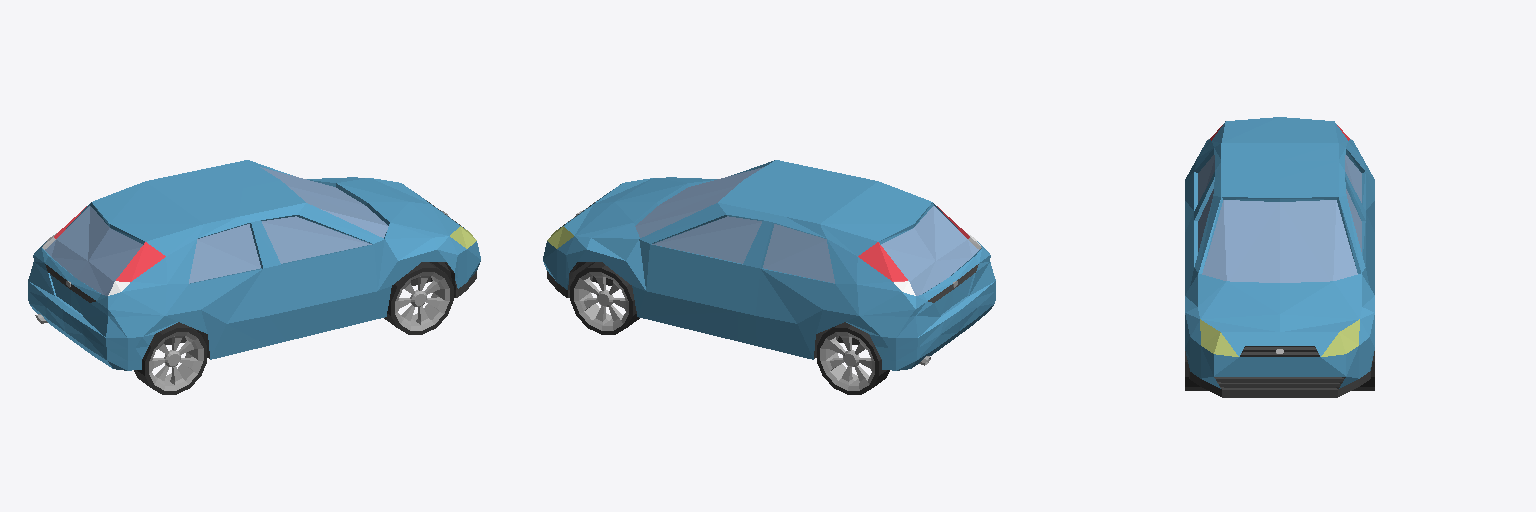
The picture shows the model from 3 angles: view 1: azimuth 30°, elevation 25°; view 2: azimuth 150°, elevation 25°; view 3: azimuth 270°, elevation 25°; orthographic projection.
Visible parts, largest first — view 1: Body, WheelR, WheelFR; view 2: Body, WheelR, WheelFL; view 3: Body.
Boxes of the visible parts, x1,y1,x2,y2 form: Body: [28, 160, 480, 370]; WheelR: [134, 322, 206, 394]; WheelFR: [384, 262, 453, 334]; Body: [543, 160, 995, 370]; WheelR: [817, 322, 889, 394]; WheelFL: [570, 262, 639, 334]; Body: [1185, 117, 1374, 397].
Size of the model in its own units: 4.29 by 1.56 by 1.83.
Materials: 1 (1 with a texture image).